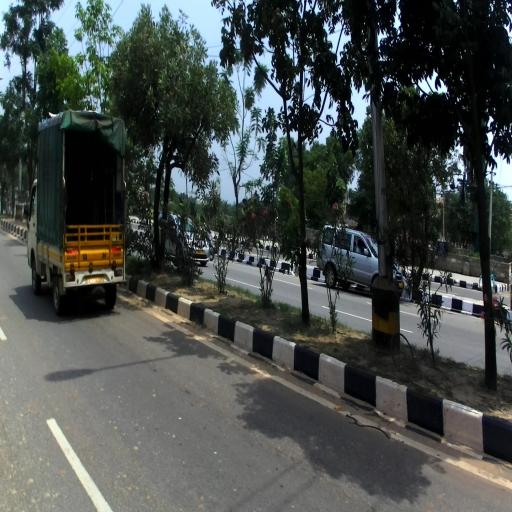street_light_0: (0, 76, 4, 83)
